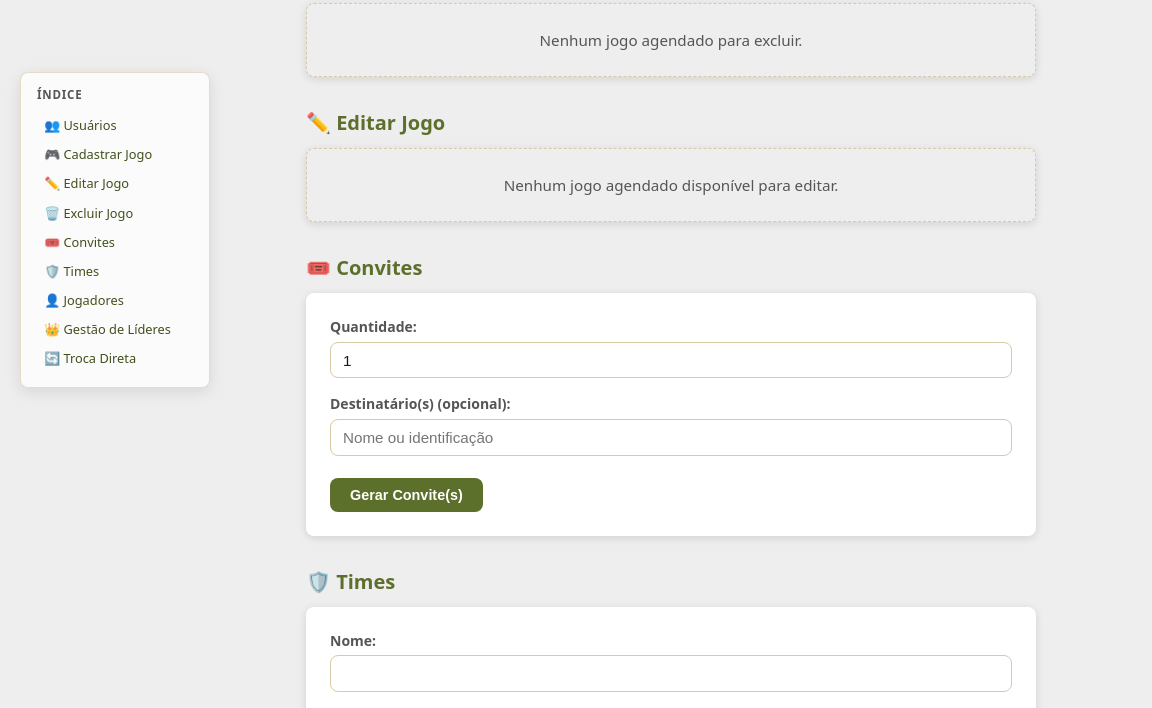
InvitesSection — descrições individuais por convite › exibe N inputs de descrição quando quantity > 1
This screenshot has width=1152, height=708.
(page scrolled)
Replace the text in the number field labelled "Quantidade:" with "3" at [671, 360], box [330, 342, 1012, 378]
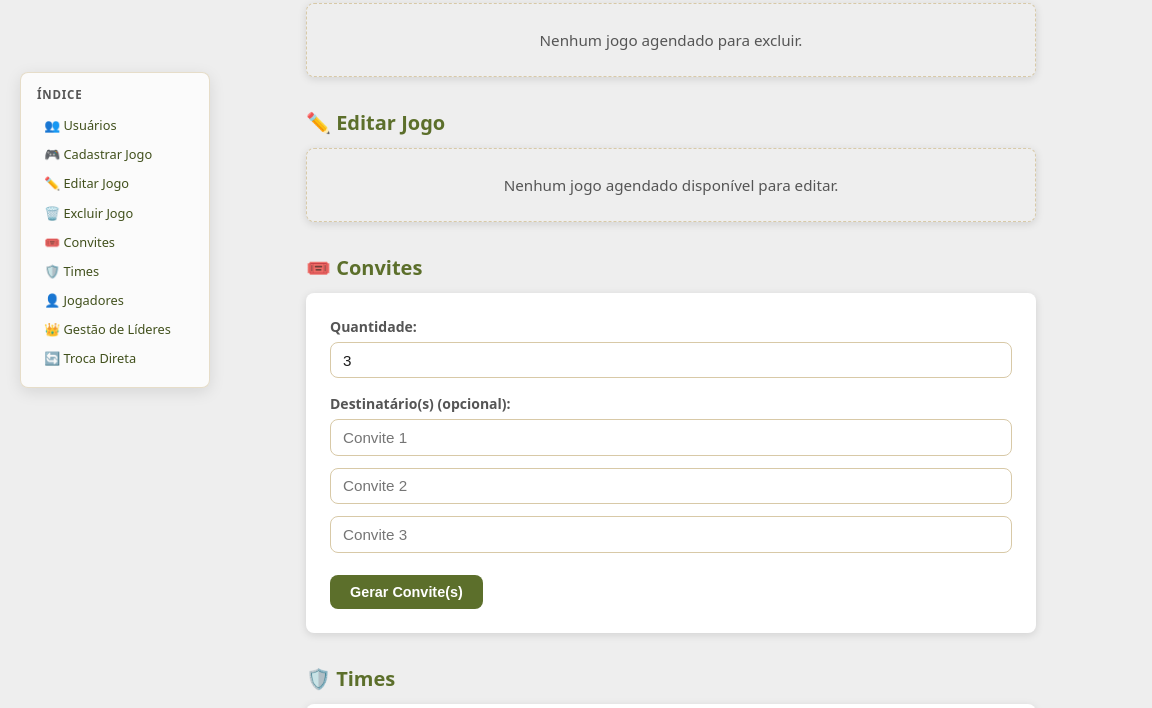
expect the field with placeholder "Convite 1" is shown: met, box [330, 419, 1012, 456]
expect the field with placeholder "Convite 2" is shown: met, box [330, 468, 1012, 504]
expect the field with placeholder "Convite 3" is shown: met, box [330, 516, 1012, 553]
